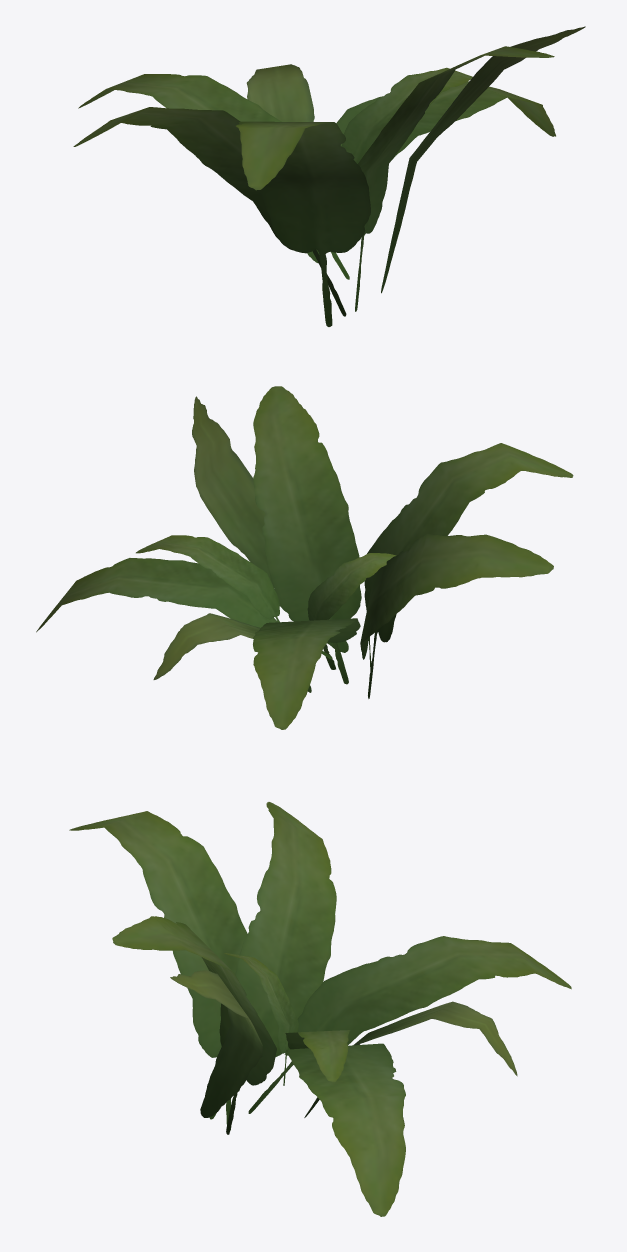
File: Grass_E_1.fbx
The picture shows the model from 3 angles, top to bottom: view 1: azimuth 30°, elevation 25°; view 2: azimuth 150°, elevation 25°; view 3: azimuth 270°, elevation 25°; orthographic projection. The views are drawn at different scales.
Parts seen in each view (by area): view 1: Grass_E_1; view 2: Grass_E_1; view 3: Grass_E_1.
Part boxes in pixels (x1,y1,x2,y2): Grass_E_1: [73, 26, 585, 326]; Grass_E_1: [36, 386, 573, 729]; Grass_E_1: [69, 802, 571, 1216].
Size of the model in its own units: 0.301 by 0.1503 by 0.2679.
